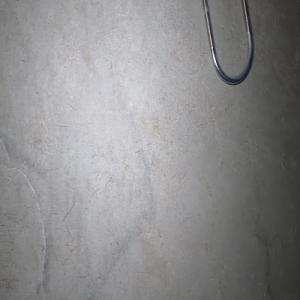ClampPart: (201, 0, 254, 85)
